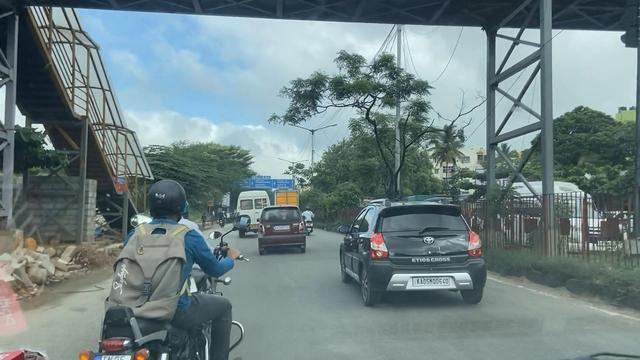LMV: (339, 202, 479, 301), (256, 207, 307, 251)
